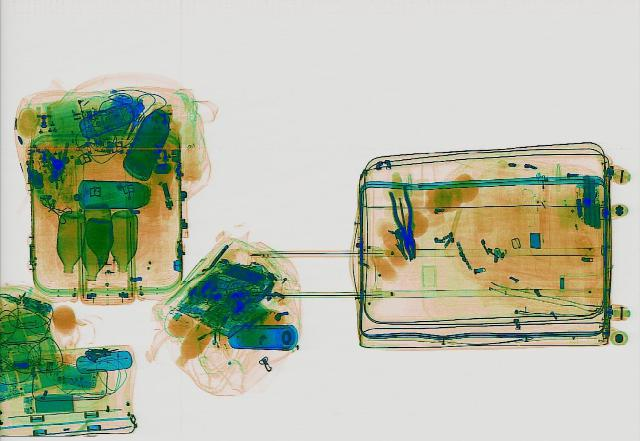Pliers: (385, 184, 423, 259)
